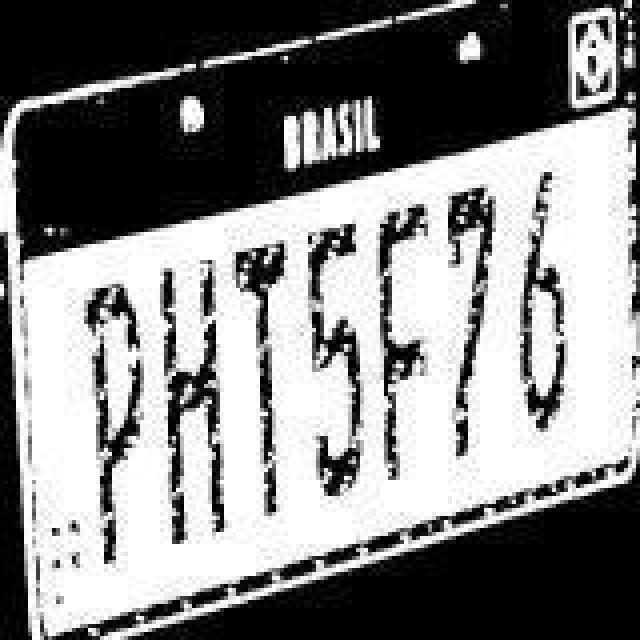5: (302, 220, 370, 500)
6: (510, 168, 570, 440)
7: (444, 182, 500, 458)
F: (374, 190, 442, 482)
K: (152, 256, 232, 544)
P: (76, 280, 148, 568)
T: (228, 236, 292, 516)
